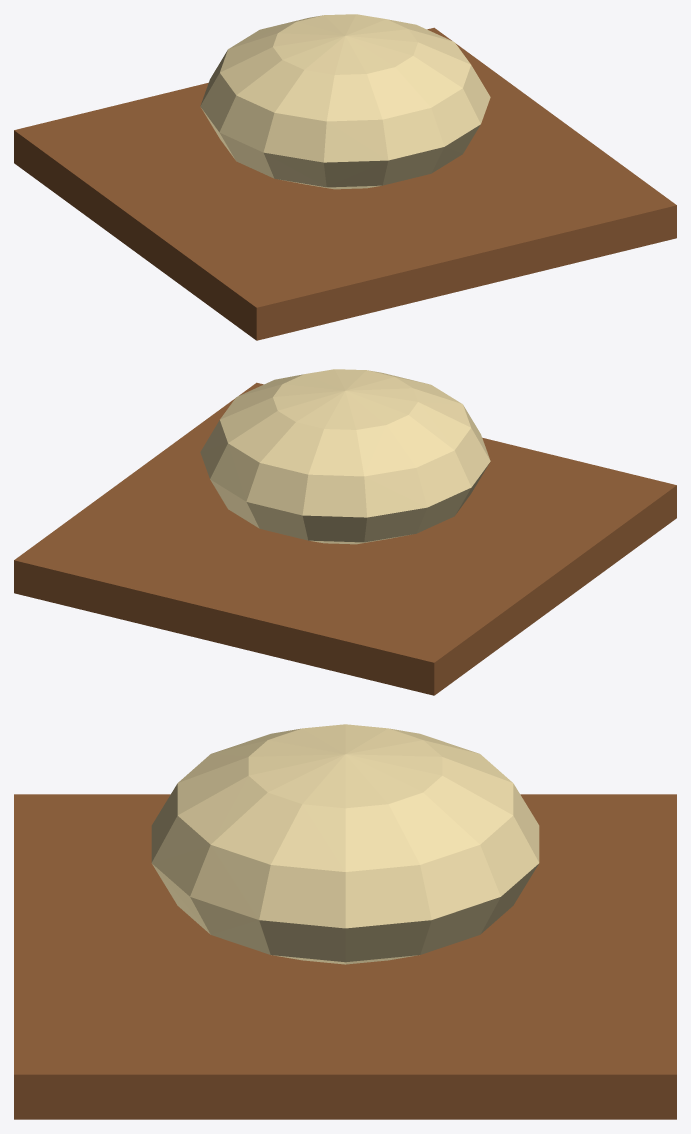
File: dough_board.obj
3 views of the same model, one above another, from view 1: azimuth 30°, elevation 25°; view 2: azimuth 150°, elevation 25°; view 3: azimuth 270°, elevation 25° (orthographic). The views are drawn at different scales.
Parts seen in each view (by area): view 1: dough_board; view 2: dough_board; view 3: dough_board.
Part boxes in pixels (<box>): dough_board: <box>14,14,676,340</box>; dough_board: <box>14,369,676,695</box>; dough_board: <box>14,724,676,1119</box>.
Size of the model in its own units: 0.4 by 0.15 by 0.4.
